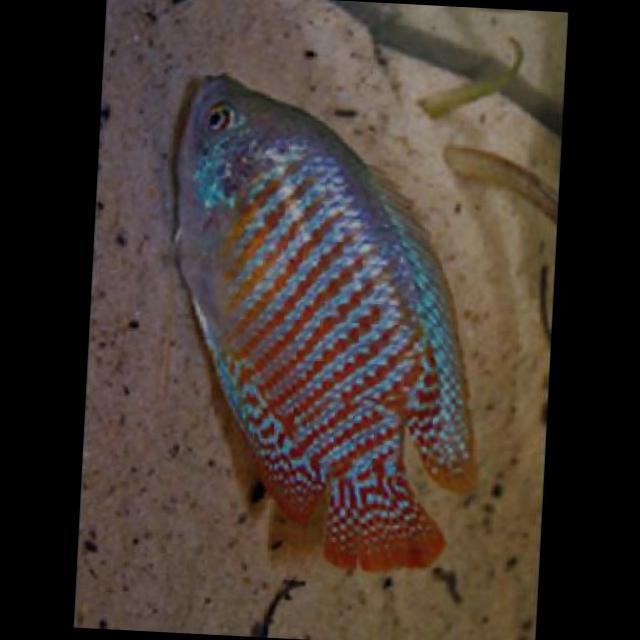Gourami: (151, 70, 500, 582)
